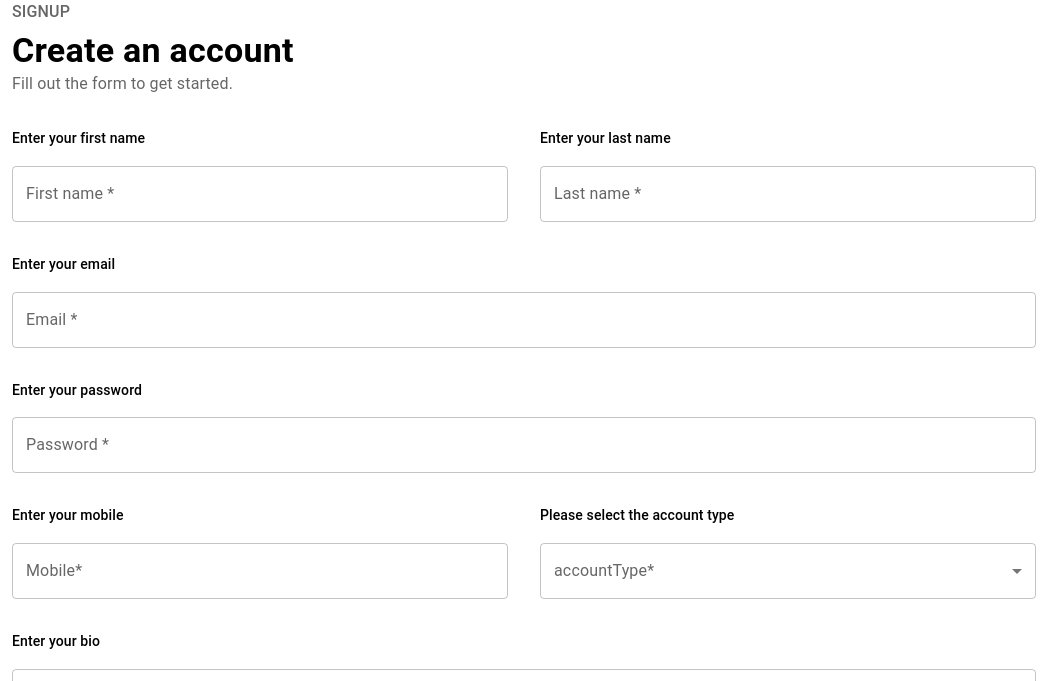
Test: Form › conditionally renders school and group fields for teachers
// Open the account type dropdown and select "teacher"
Press the mouse on the dropdown named "accountType*" at point(788, 572), box [540, 544, 1036, 600]
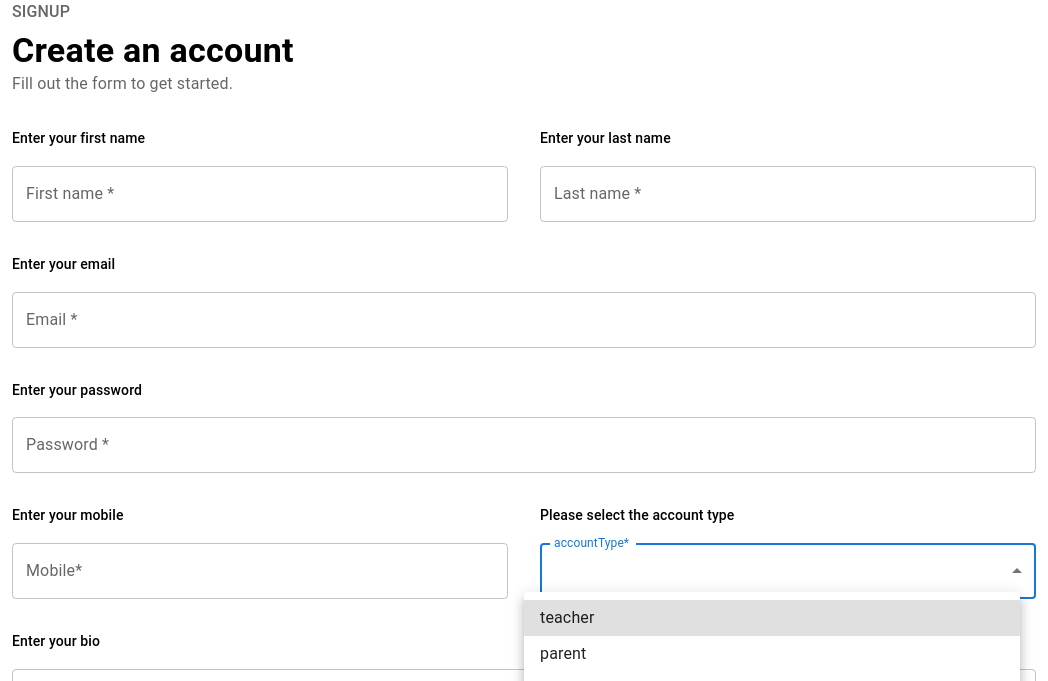
Expected: the option "teacher" is shown
Click the option "teacher" at point(567, 618), box [524, 600, 1020, 636]
(page scrolled)
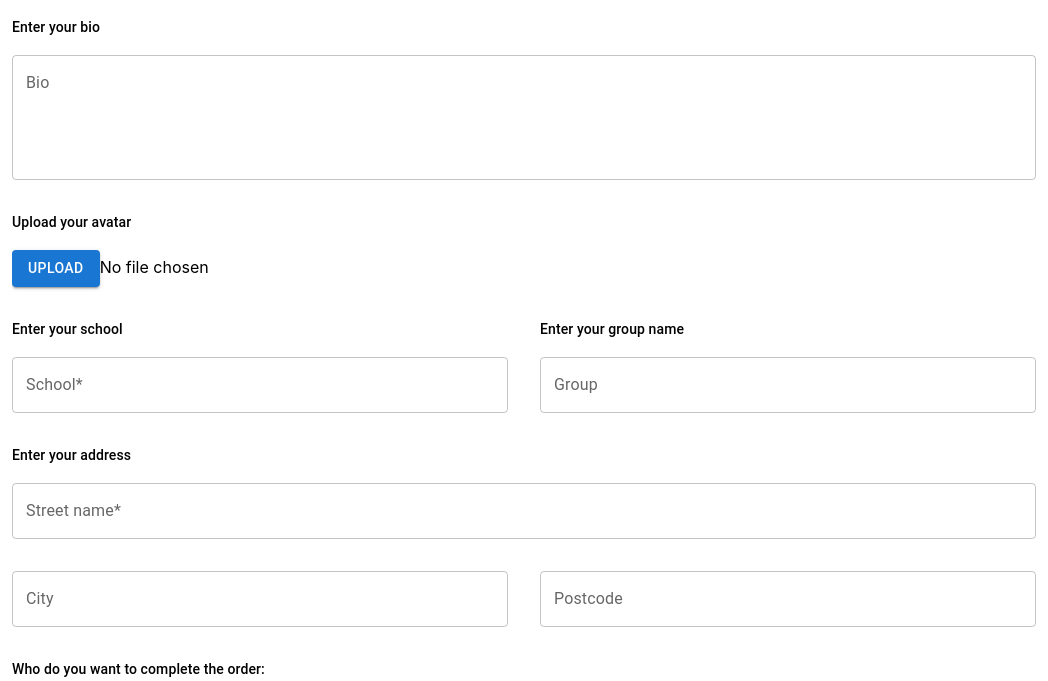
Expected: the field labelled "School*" is shown, [12, 357, 508, 413]
Expected: the field labelled "Group" is shown, [540, 357, 1036, 413]
